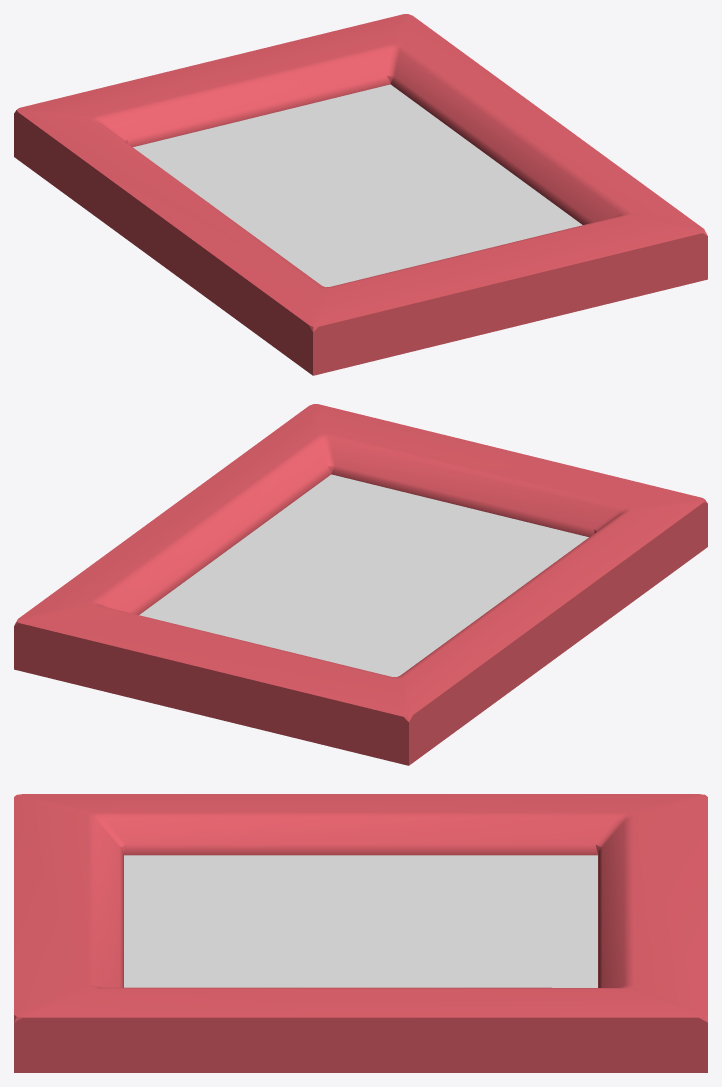
The model's file is ramka.fbx.
3 views of the same model, one above another, from view 1: azimuth 30°, elevation 25°; view 2: azimuth 150°, elevation 25°; view 3: azimuth 270°, elevation 25° (orthographic). The views are drawn at different scales.
Parts seen in each view (by area): view 1: Cube; view 2: Cube; view 3: Cube.
Part boxes in pixels (left/top/right/bottom): Cube: left=14, top=14, right=707, bottom=375; Cube: left=14, top=404, right=707, bottom=765; Cube: left=14, top=794, right=707, bottom=1072.
Bounding box in the file's own units: 152 × 19.26 × 200.
